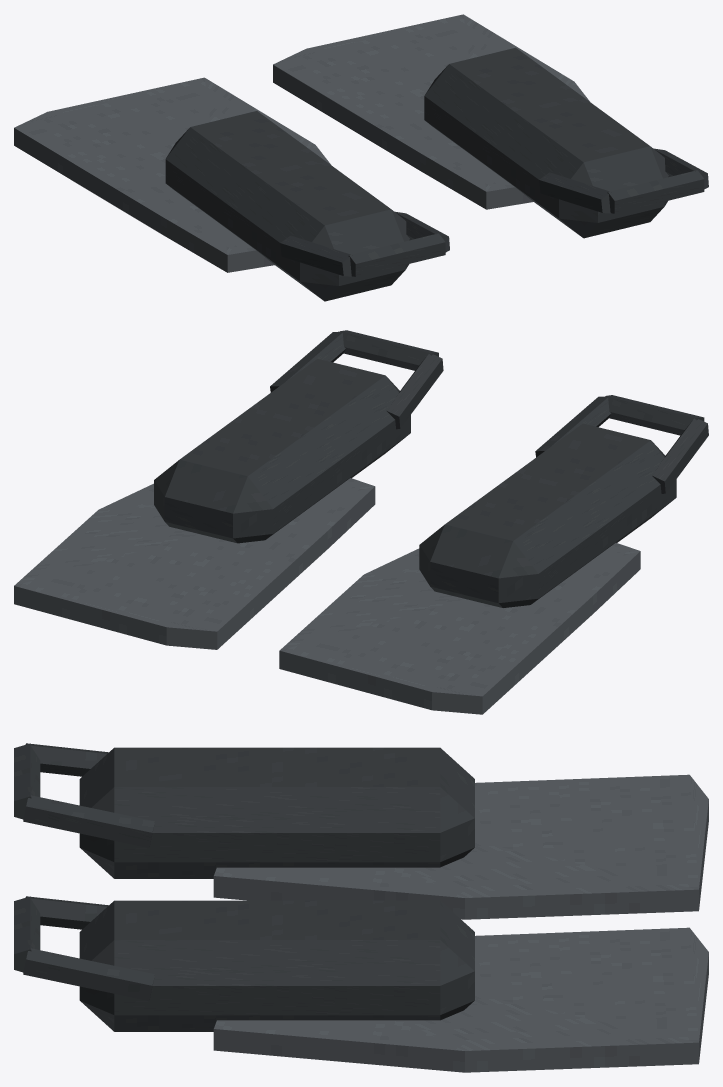
File: swim_fins.glb
The picture shows the model from 3 angles, top to bottom: view 1: azimuth 30°, elevation 25°; view 2: azimuth 150°, elevation 25°; view 3: azimuth 270°, elevation 25°; orthographic projection. The views are drawn at different scales.
Parts seen in each view (by area): view 1: block_rubber foot pocket (×2), block_flexible fin (×2), block_rubber heel strap 1 (×2), block_rubber heel strap 0 (×2), block_rubber heel strap 2 (×2); view 2: block_flexible fin (×2), block_rubber foot pocket (×2), block_rubber heel strap 1 (×2), block_rubber heel strap 0 (×2), block_rubber heel strap 2 (×2); view 3: block_rubber foot pocket (×2), block_flexible fin (×2), block_rubber heel strap 2 (×2), block_rubber heel strap 0 (×2), block_rubber heel strap 1 (×2).
Part boxes in pixels (left/top/right/bottom): block_rubber foot pocket (×2): left=165, top=47, right=669, bottom=301; block_flexible fin (×2): left=14, top=14, right=589, bottom=272; block_rubber heel strap 1 (×2): left=348, top=170, right=704, bottom=276; block_rubber heel strap 0 (×2): left=280, top=172, right=611, bottom=276; block_rubber heel strap 2 (×2): left=395, top=148, right=708, bottom=252; block_flexible fin (×2): left=14, top=478, right=640, bottom=714; block_rubber foot pocket (×2): left=154, top=358, right=676, bottom=607; block_rubber heel strap 1 (×2): left=339, top=330, right=704, bottom=435; block_rubber heel strap 0 (×2): left=386, top=352, right=708, bottom=493; block_rubber heel strap 2 (×2): left=270, top=331, right=611, bottom=457; block_rubber foot pocket (×2): left=79, top=747, right=474, bottom=1031; block_flexible fin (×2): left=213, top=774, right=708, bottom=1072; block_rubber heel strap 2 (×2): left=23, top=795, right=154, bottom=1000; block_rubber heel strap 0 (×2): left=25, top=743, right=108, bottom=929; block_rubber heel strap 1 (×2): left=14, top=743, right=40, bottom=972.
Size of the model in its own units: 0.3071 by 0.0477 by 0.3264.
1 material, 1 textured.
